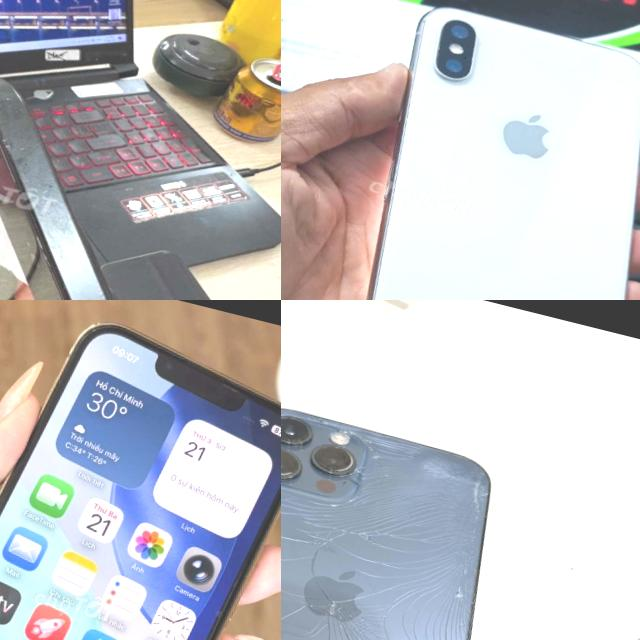physical_damage: (351, 476, 482, 566), (349, 424, 494, 504), (281, 531, 387, 640), (281, 469, 363, 557), (372, 565, 466, 640), (281, 602, 369, 640), (301, 411, 364, 449)
scratch: (0, 125, 26, 162), (0, 70, 20, 117)
